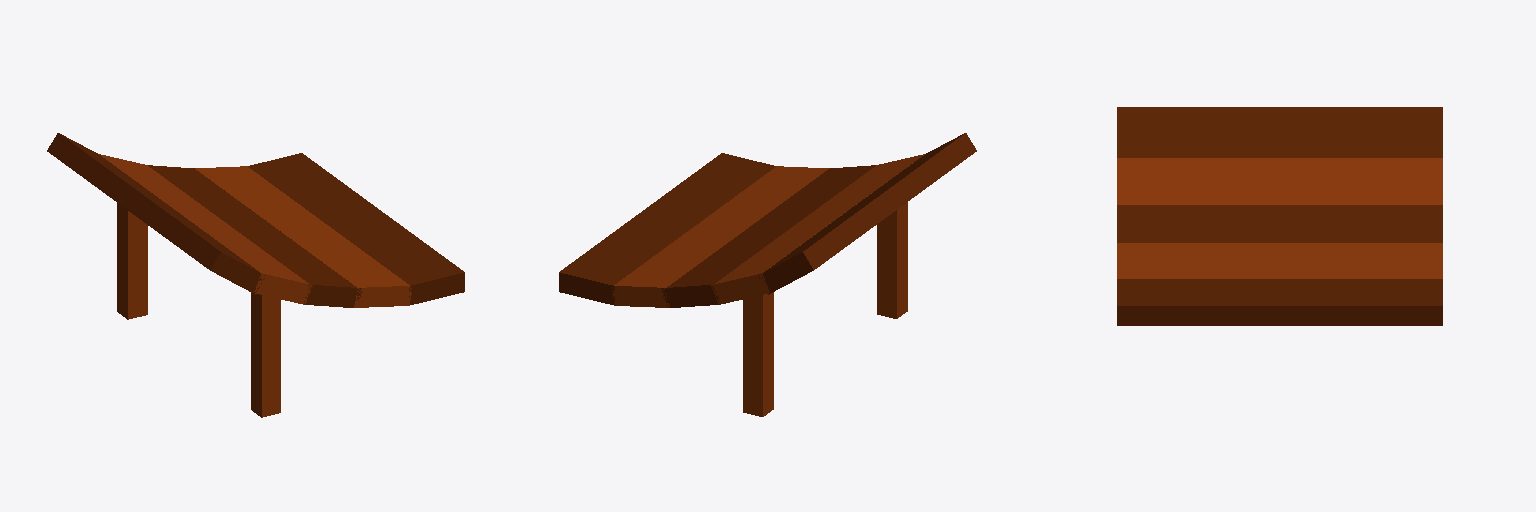
Rendered from tremplin.obj.
3 renders of one model, left to right at view 1: azimuth 30°, elevation 25°; view 2: azimuth 150°, elevation 25°; view 3: azimuth 270°, elevation 25°, orthographic.
Visible parts, largest first — view 1: Cube, Cube.001, Cube.006, Cube.002, Cube.003, Cube.005, Cube.004; view 2: Cube, Cube.001, Cube.006, Cube.002, Cube.003, Cube.004, Cube.005; view 3: Cube.006, Cube, Cube.003, Cube.002, Cube.001.
Part boxes in pixels (bbox=[...]): Cube: bbox=[248, 153, 464, 304]; Cube.001: bbox=[194, 166, 411, 307]; Cube.006: bbox=[47, 133, 265, 294]; Cube.002: bbox=[148, 165, 361, 307]; Cube.003: bbox=[99, 154, 312, 304]; Cube.005: bbox=[251, 293, 280, 417]; Cube.004: bbox=[117, 203, 147, 319]; Cube: bbox=[559, 153, 775, 305]; Cube.001: bbox=[612, 166, 829, 307]; Cube.006: bbox=[759, 133, 976, 294]; Cube.002: bbox=[661, 165, 875, 307]; Cube.003: bbox=[711, 154, 924, 304]; Cube.004: bbox=[743, 292, 773, 416]; Cube.005: bbox=[877, 202, 907, 318]; Cube.006: bbox=[1117, 107, 1442, 157]; Cube: bbox=[1117, 279, 1442, 325]; Cube.003: bbox=[1117, 158, 1442, 204]; Cube.002: bbox=[1117, 205, 1442, 242]; Cube.001: bbox=[1117, 243, 1442, 278].
Bounding box in the file's own units: 2.71 × 1.87 × 3.